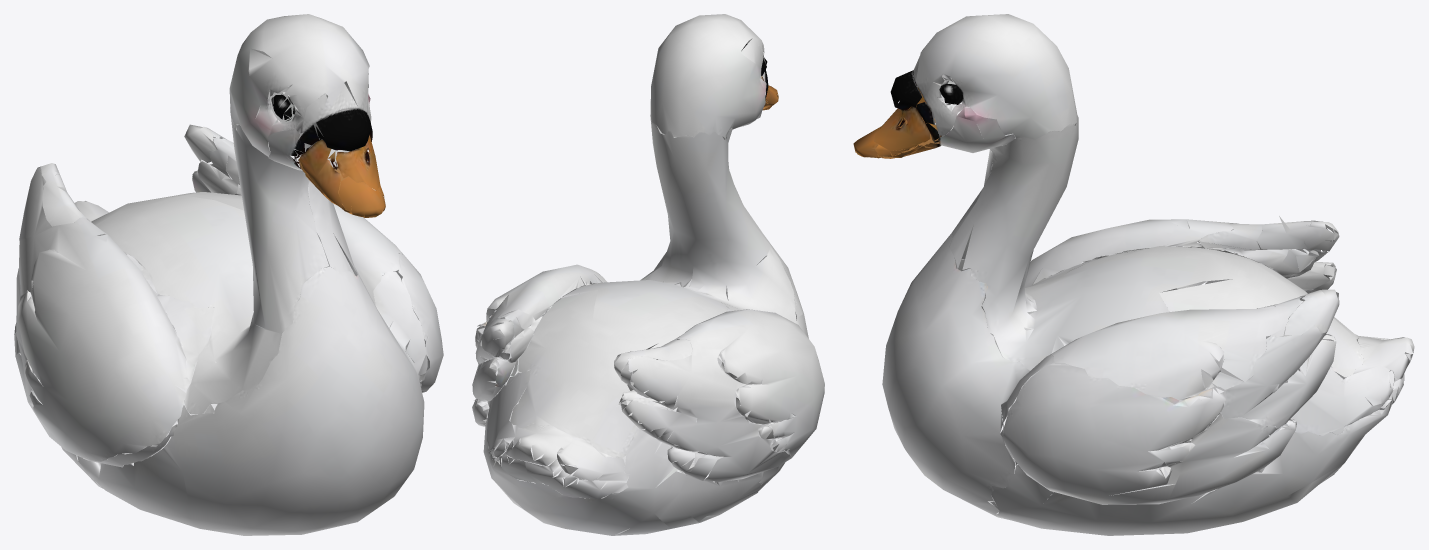
File: swan.glb
3 views of the same model, side by side, from view 1: azimuth 30°, elevation 25°; view 2: azimuth 150°, elevation 25°; view 3: azimuth 270°, elevation 25° (orthographic). The views are drawn at different scales.
Parts seen in each view (by area): view 1: model; view 2: model; view 3: model.
Boxes of the visible parts, x1,y1,x2,y2 form: model: (14,14,443,535); model: (472,14,824,535); model: (853,14,1414,535).
Size of the model in its own units: 1.32 by 1.78 by 1.9.
1 material, 1 textured.
